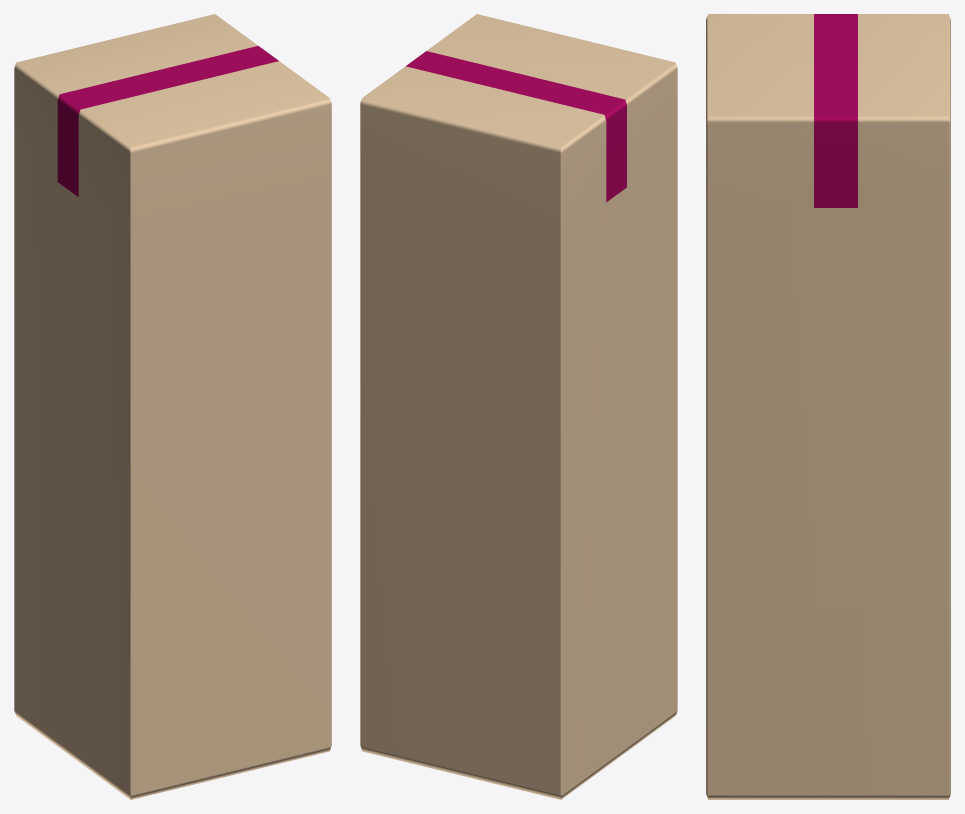
Rendered from Caja de mudanza 3.fbx.
3 views of the same model, side by side, from view 1: azimuth 30°, elevation 25°; view 2: azimuth 150°, elevation 25°; view 3: azimuth 270°, elevation 25° (orthographic). The views are drawn at different scales.
Parts seen in each view (by area): view 1: objeto_interactuable3; view 2: objeto_interactuable3; view 3: objeto_interactuable3.
Part boxes in pixels (x1=…): objeto_interactuable3: x1=14, y1=14, x2=331, y2=799; objeto_interactuable3: x1=360, y1=14, x2=677, y2=799; objeto_interactuable3: x1=706, y1=14, x2=950, y2=799.
Size of the model in its own units: 21.93 by 67.6 by 21.93.
